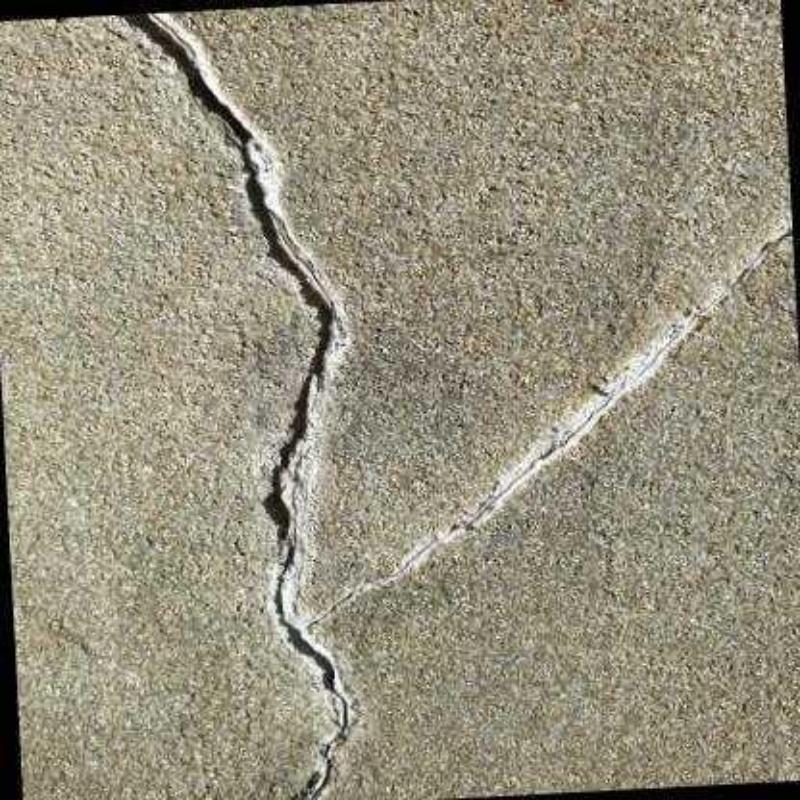pothole: (305, 227, 794, 631), (117, 13, 350, 798)
